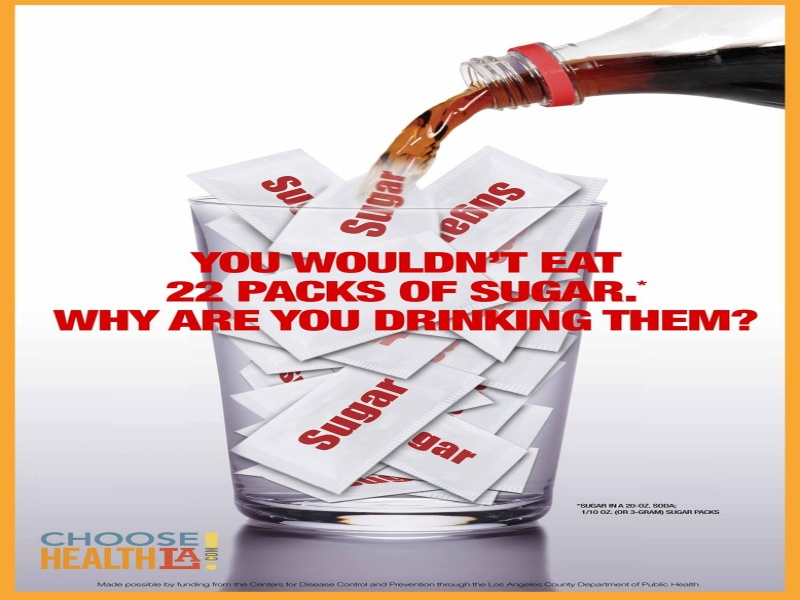Plastic bottle: (419, 1, 790, 174)
